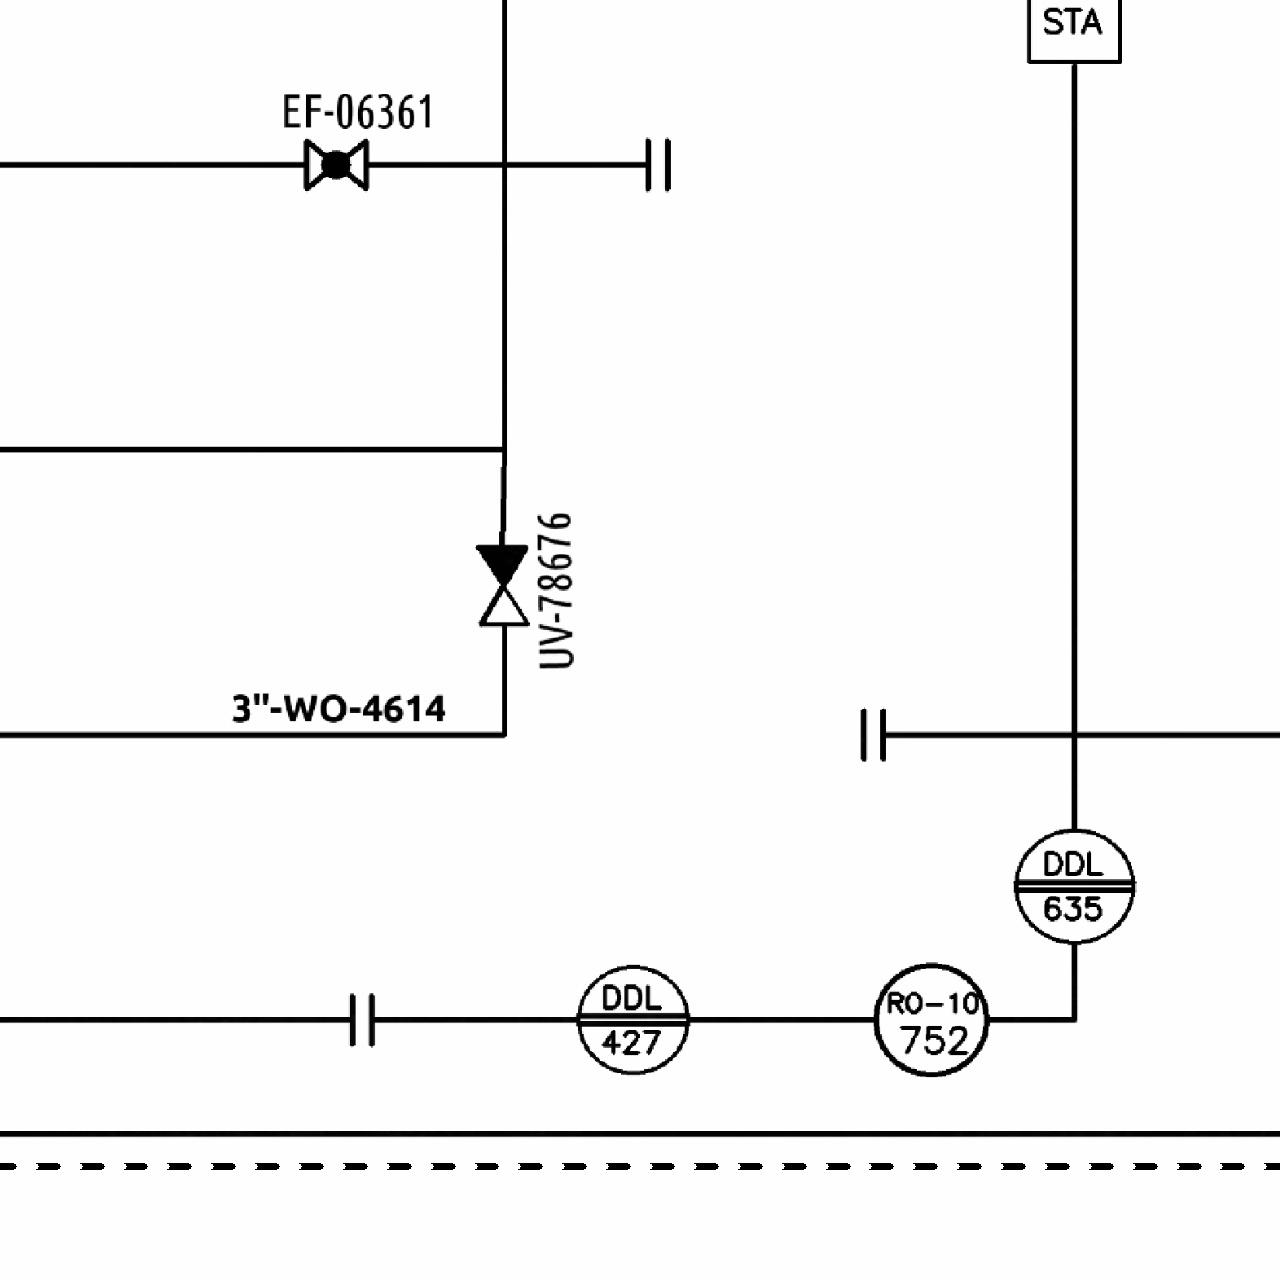Control-Panel: (1008, 821, 1139, 949), (867, 956, 994, 1081), (568, 958, 696, 1080)
Half closed valve: (471, 540, 533, 629)
